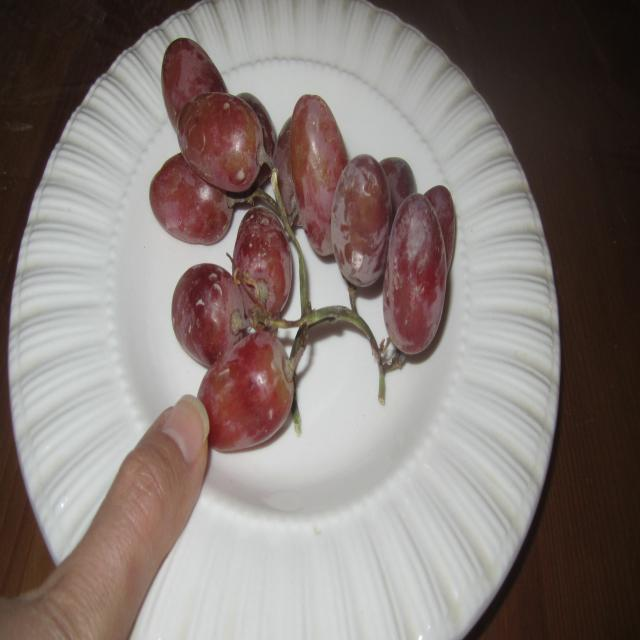grapes: (149, 36, 456, 453)
